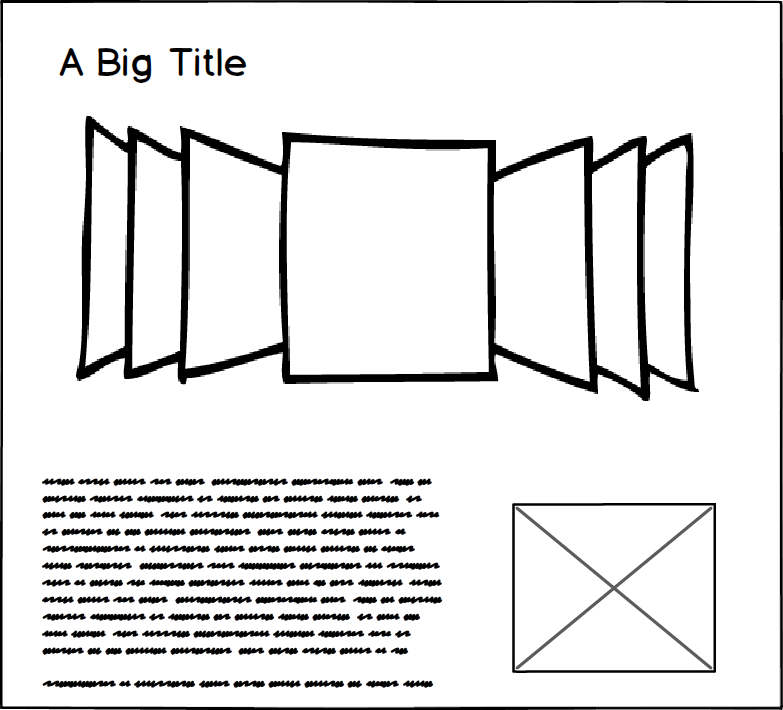h1: (54, 39, 256, 90)
image: (505, 498, 719, 682)
p: (35, 472, 452, 694)
slideshow: (72, 108, 712, 410)
